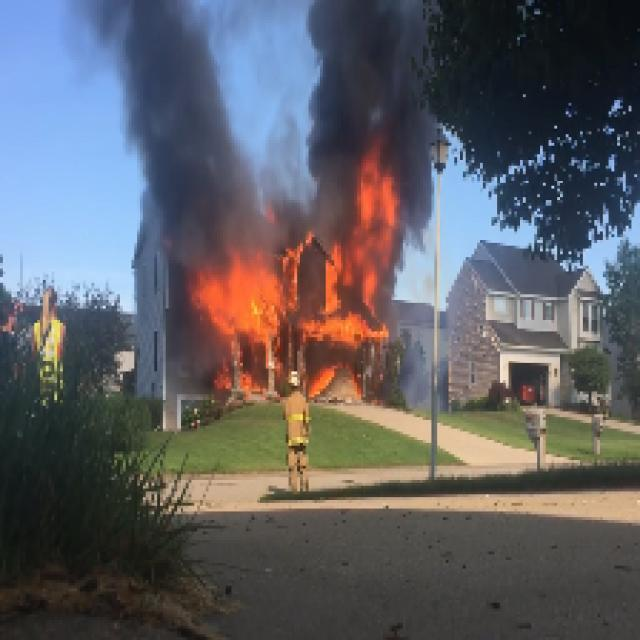Fire: (214, 264, 370, 344), (351, 170, 391, 266)
Smoke: (121, 3, 229, 223), (310, 4, 406, 158)
